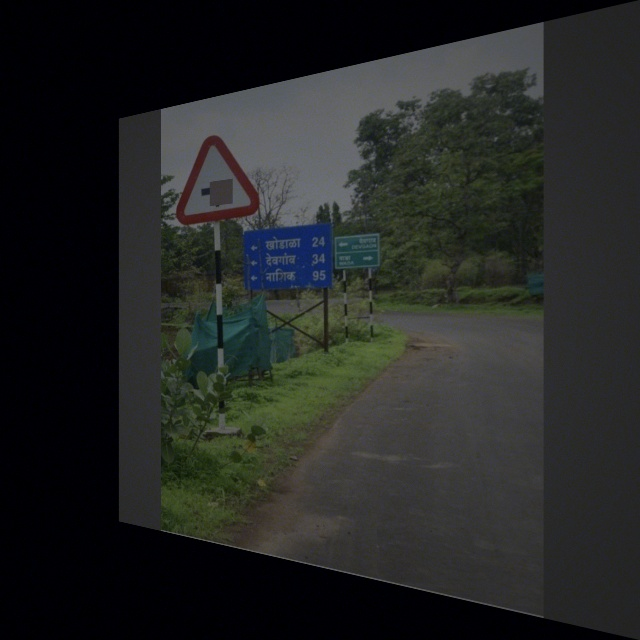T_Intersection: (175, 117, 264, 232)
